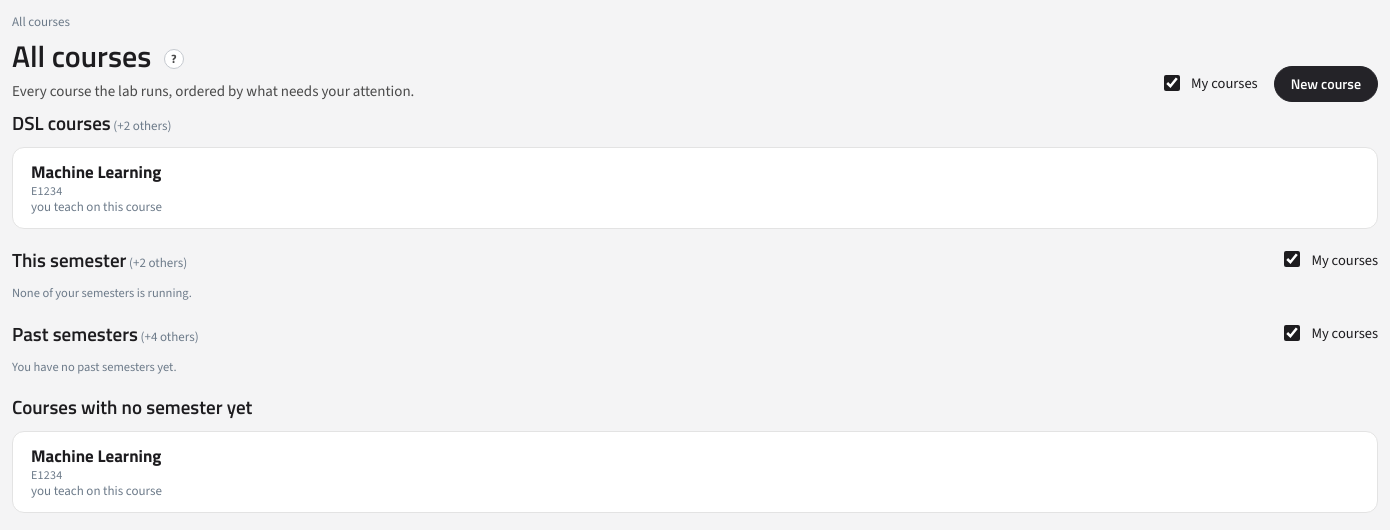
Test: All courses › always shows Past semesters, saying when the person has none, with the others greyed once My courses is off
The width and height of the screenshot is (1390, 530).
Click the 3rd checkbox labelled "My courses". click: click(1292, 333)
box: 1284,325 -> 1300,341
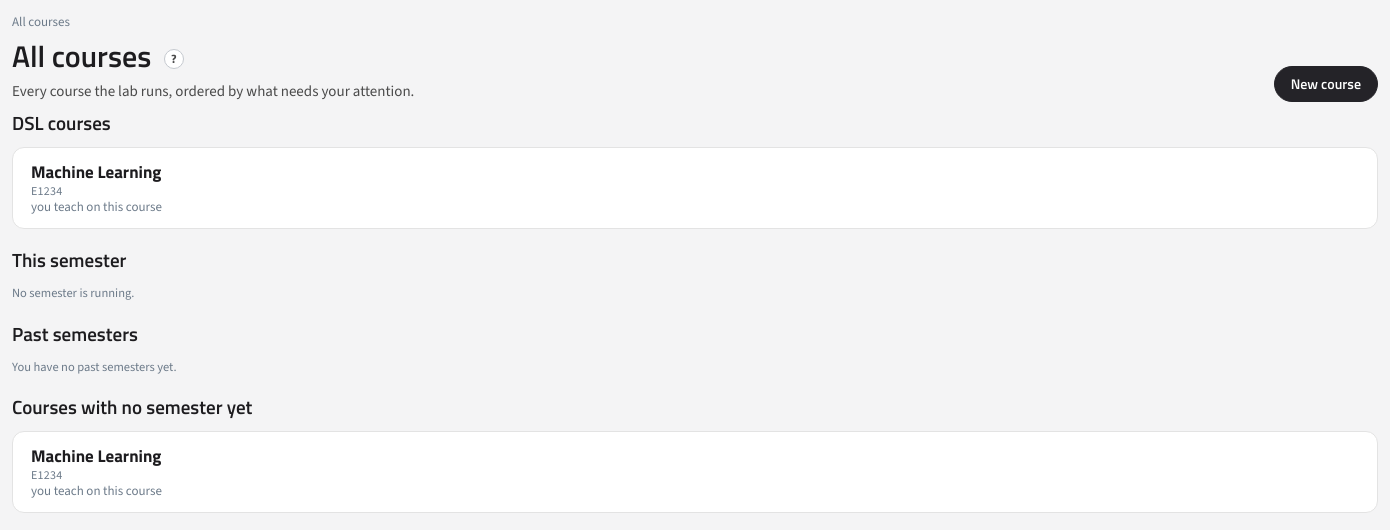
Check: the text with class "footnote" reads "You have no past semesters yet.", box 12,358 -> 176,374
Check: the label is gone
